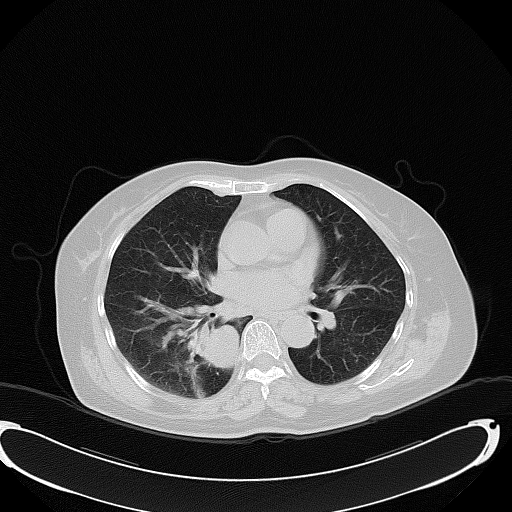nodule: (206, 325, 239, 369)
